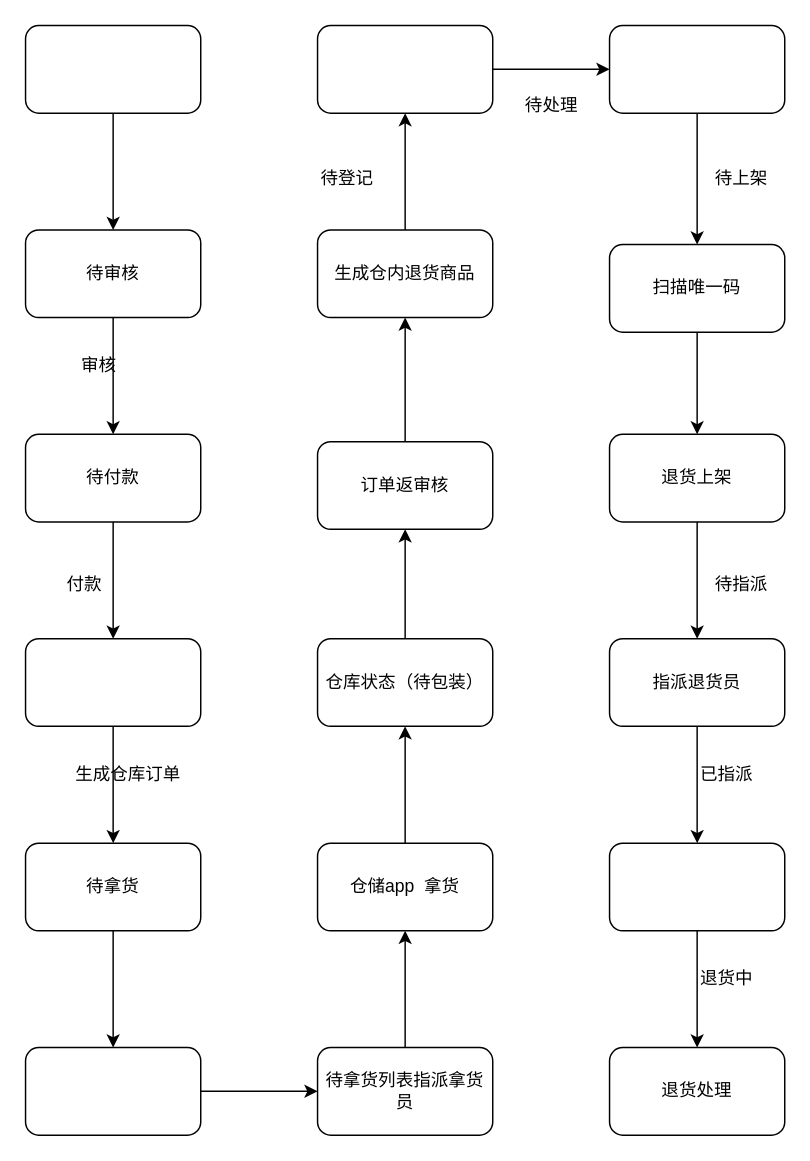
Some shapes in this 810 by 1161 pixel diagram are drawn without their labels. Here are the shapes that lost their labels. From the top down, the centre of each, then its label:
At point (112, 68): "生成拿货商品订单".
At point (404, 68): "app 退货扫描登记".
At point (696, 68): "仓内退货处理".
At point (112, 681): "待发货".
At point (696, 886): "app退货下架".
At point (112, 1090): "生成波次任务".
